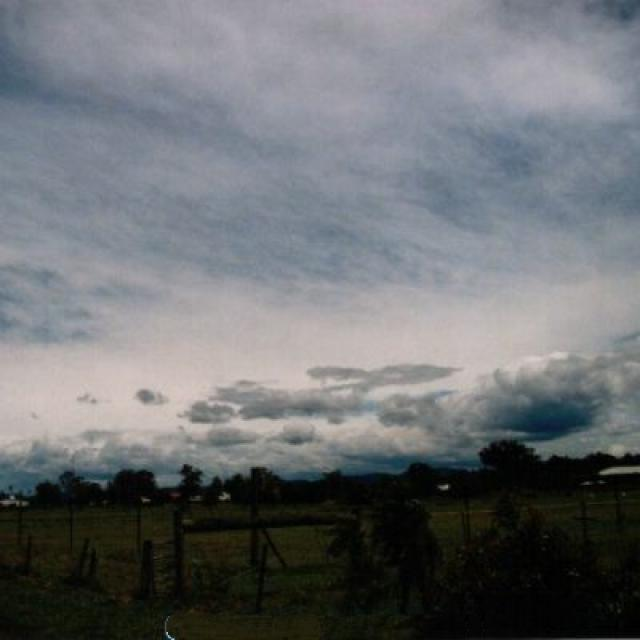Cs: (1, 72, 640, 432)
